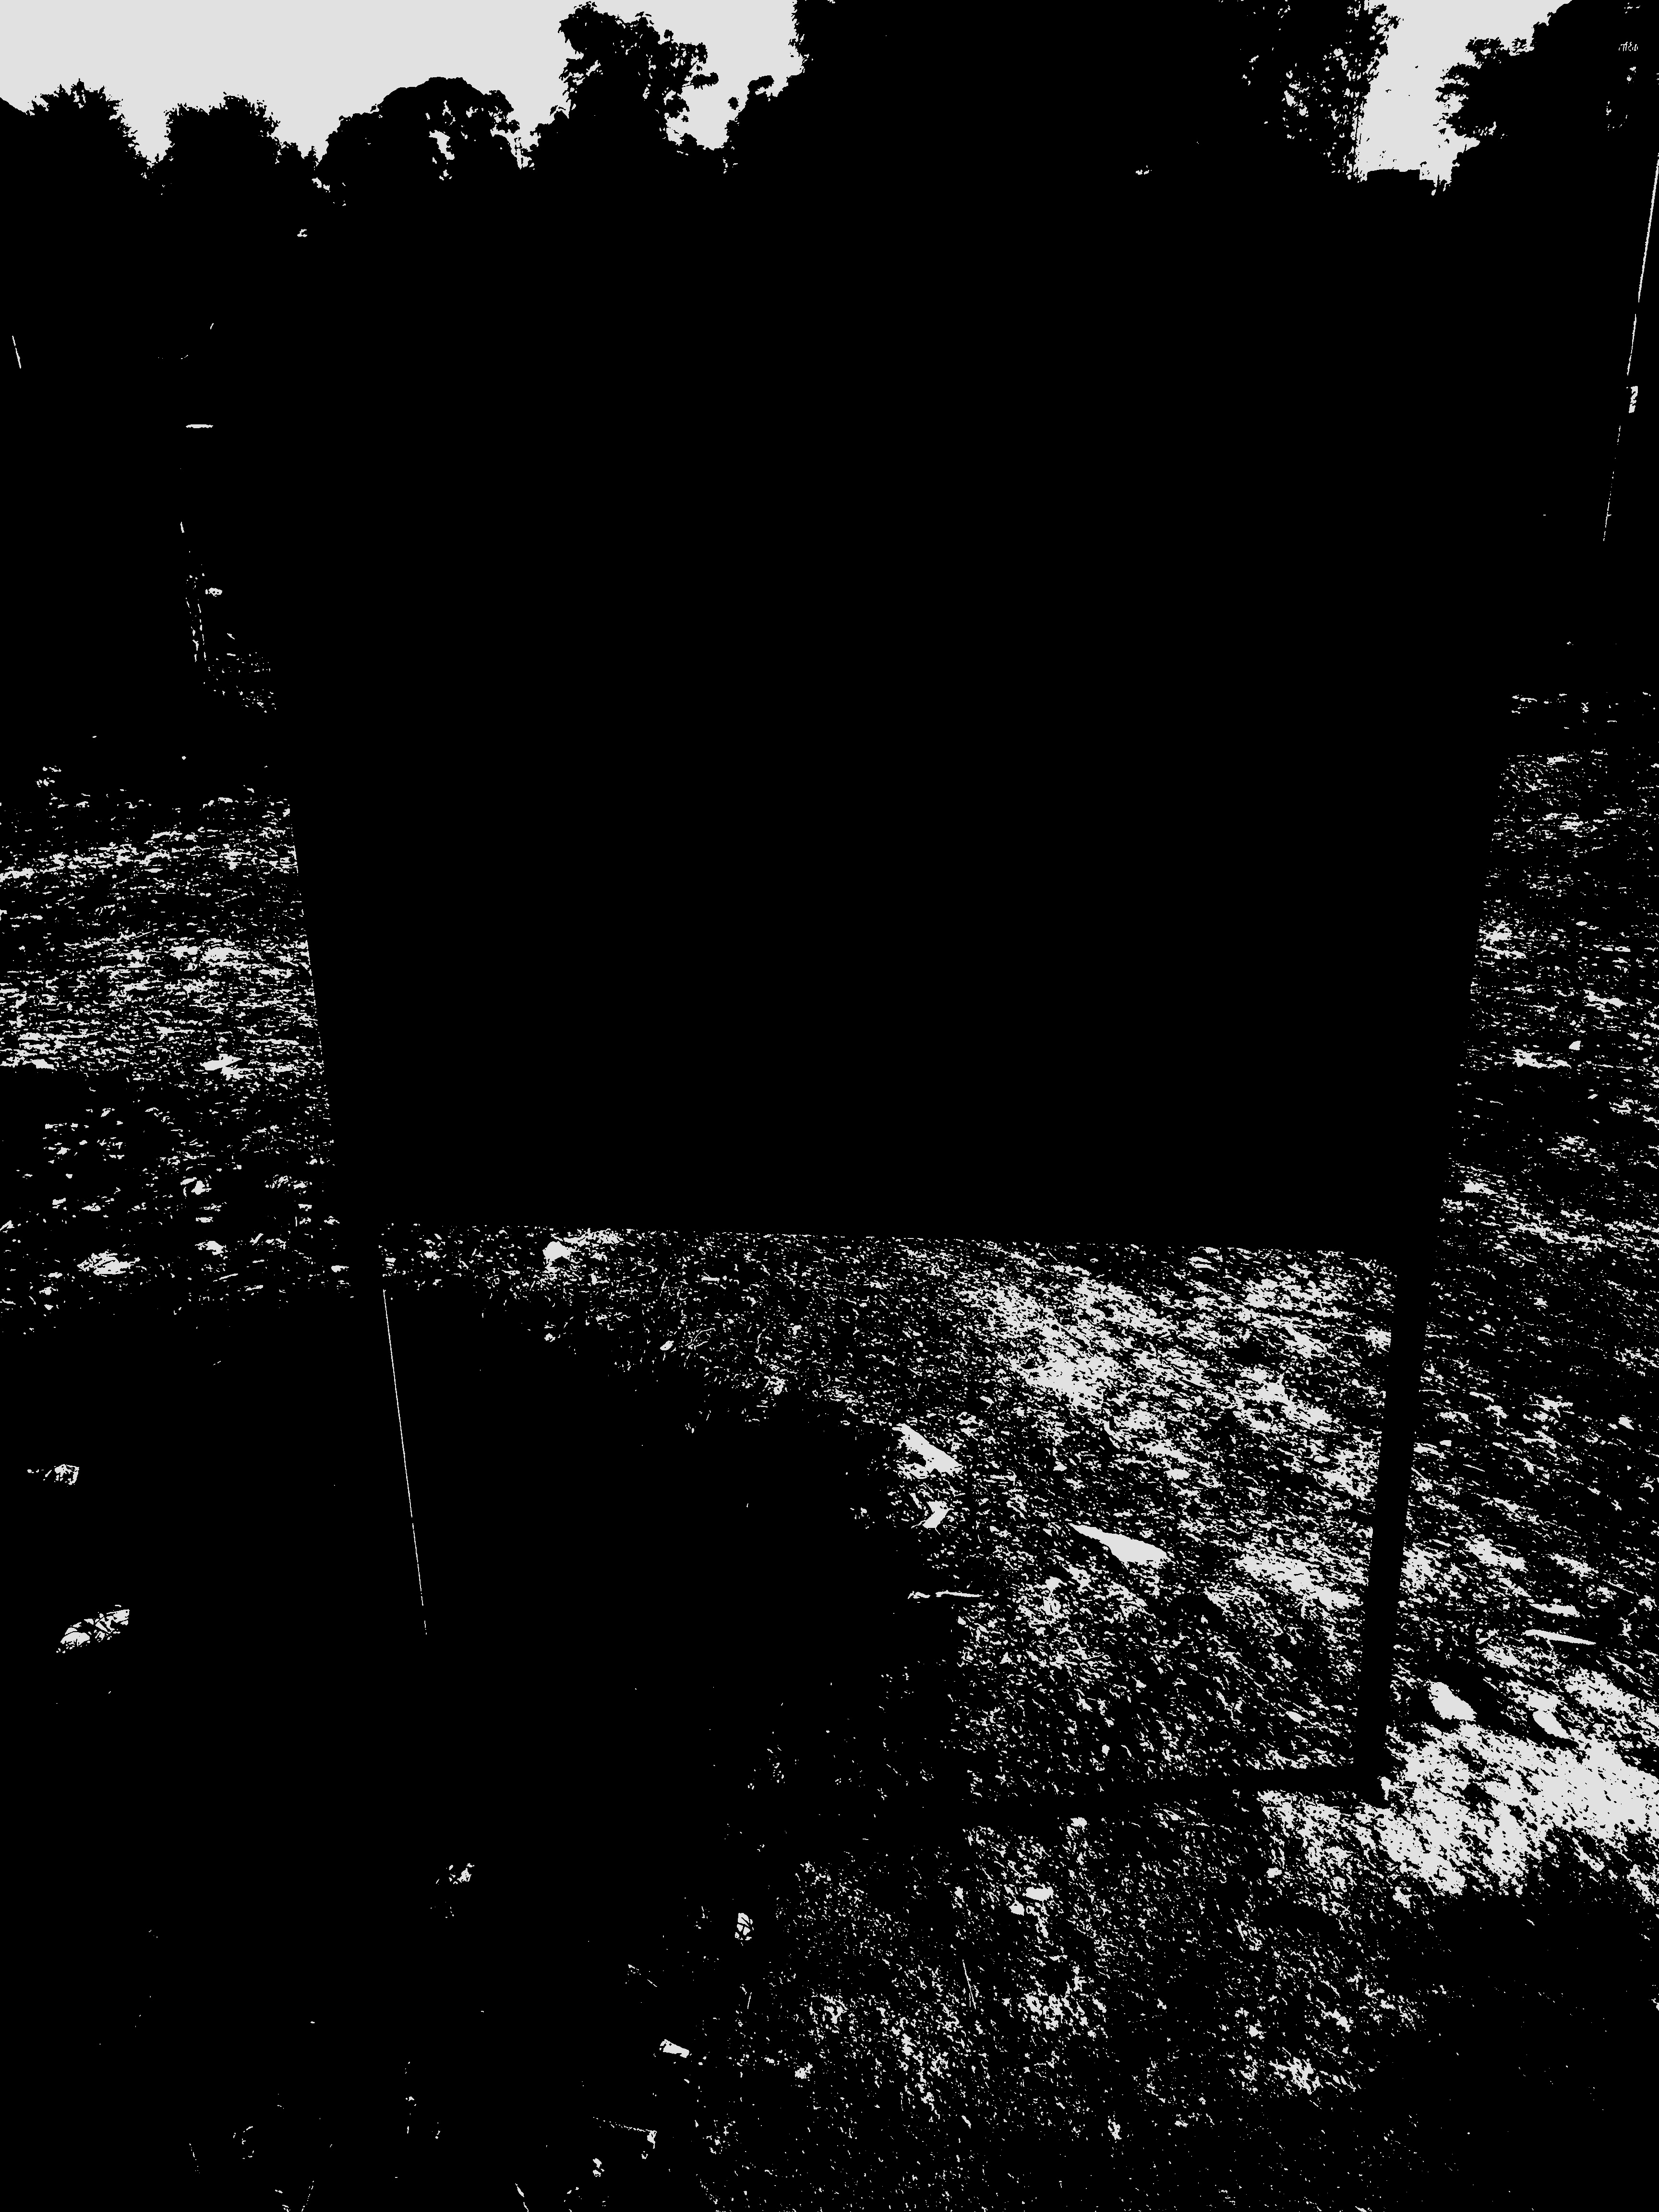text: (230, 246, 1570, 1254)
